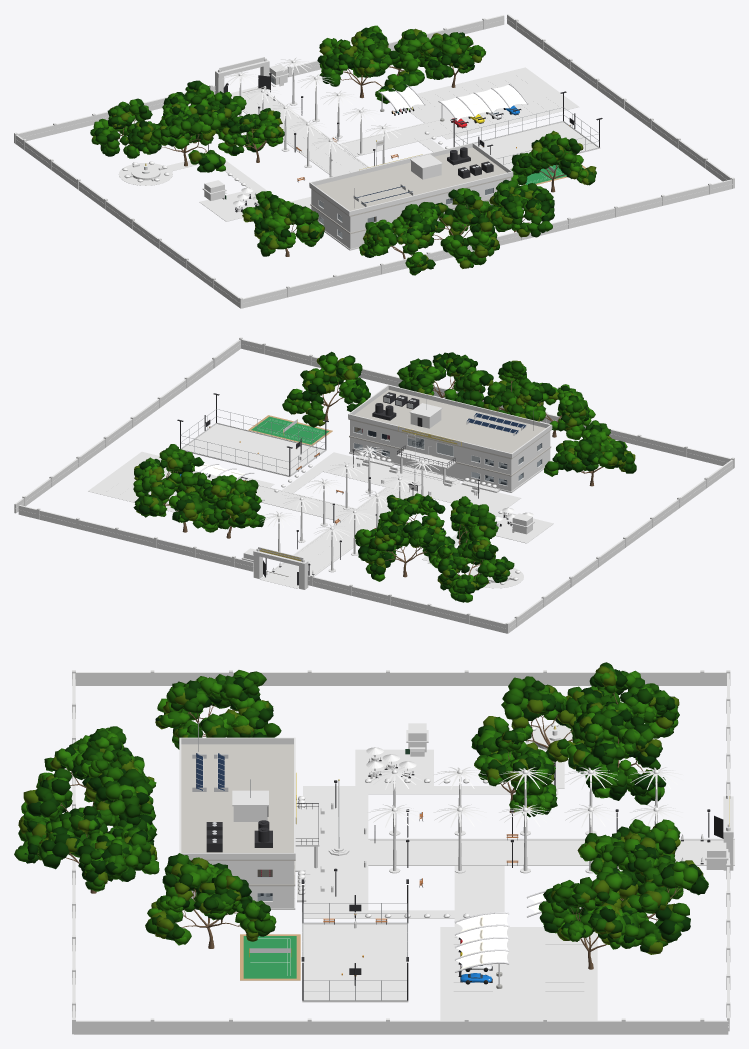
The model's file is campus_full.glb.
3 views of the same model, one above another, from view 1: azimuth 30°, elevation 25°; view 2: azimuth 150°, elevation 25°; view 3: azimuth 270°, elevation 25° (orthographic). The views are drawn at different scales.
Visible parts, largest first — view 1: Parking_Area, Roof_Main, Boundary_Wall_South, Oak_Tree_9_Leaves, Oak_Tree_11_Leaves, Oak_Tree_10_Leaves, Oak_Tree_8_Leaves, Oak_Tree_5_Leaves, Road_Main, Oak_Tree_2_Leaves, Oak_Tree_12_Leaves, Oak_Tree_1_Leaves (+19 smaller); view 2: Roof_Main, Oak_Tree_12_Leaves, Plaza_Front, Court_Pad_Apron, Oak_Tree_2_Leaves, Road_Main, Oak_Tree_3_Leaves, Oak_Tree_11_Leaves, Oak_Tree_8_Leaves, Oak_Tree_6_Leaves, Oak_Tree_5_Leaves, Boundary_Wall_South (+22 smaller); view 3: Parking_Area, Roof_Main, Boundary_Wall_East, Plaza_Front, Boundary_Wall_West, Oak_Tree_3_Leaves, Oak_Tree_10_Leaves, Oak_Tree_12_Leaves, Oak_Tree_11_Leaves, Court_Pad_Apron, Road_Main, Oak_Tree_6_Leaves (+23 smaller).
Boxes of the visible parts, bbox=[...] form: Parking_Area: bbox=[404, 67, 578, 139]; Roof_Main: bbox=[309, 147, 512, 216]; Boundary_Wall_South: bbox=[242, 179, 732, 308]; Oak_Tree_9_Leaves: bbox=[418, 188, 499, 268]; Oak_Tree_11_Leaves: bbox=[242, 191, 324, 256]; Oak_Tree_10_Leaves: bbox=[483, 179, 554, 237]; Oak_Tree_8_Leaves: bbox=[359, 204, 438, 275]; Oak_Tree_5_Leaves: bbox=[317, 36, 407, 103]; Road_Main: bbox=[230, 86, 367, 175]; Oak_Tree_2_Leaves: bbox=[90, 98, 167, 158]; Oak_Tree_12_Leaves: bbox=[511, 130, 596, 185]; Oak_Tree_1_Leaves: bbox=[145, 113, 225, 172]; Roof_Main: bbox=[348, 389, 551, 459]; Oak_Tree_12_Leaves: bbox=[282, 351, 370, 427]; Plaza_Front: bbox=[314, 452, 520, 511]; Court_Pad_Apron: bbox=[182, 424, 324, 475]; Oak_Tree_2_Leaves: bbox=[432, 539, 514, 602]; Road_Main: bbox=[261, 487, 414, 588]; Oak_Tree_3_Leaves: bbox=[354, 520, 453, 581]; Oak_Tree_11_Leaves: bbox=[544, 420, 636, 476]; Oak_Tree_8_Leaves: bbox=[503, 382, 595, 439]; Oak_Tree_6_Leaves: bbox=[133, 471, 225, 532]; Oak_Tree_5_Leaves: bbox=[197, 475, 265, 529]; Boundary_Wall_South: bbox=[241, 339, 731, 465]; Parking_Area: bbox=[440, 927, 597, 1020]; Roof_Main: bbox=[181, 744, 295, 860]; Boundary_Wall_East: bbox=[74, 1020, 728, 1034]; Plaza_Front: bbox=[303, 786, 368, 918]; Boundary_Wall_West: bbox=[76, 672, 726, 685]; Oak_Tree_3_Leaves: bbox=[567, 701, 666, 804]; Oak_Tree_10_Leaves: bbox=[14, 806, 159, 891]; Oak_Tree_12_Leaves: bbox=[145, 853, 276, 945]; Oak_Tree_11_Leaves: bbox=[155, 670, 281, 749]; Court_Pad_Apron: bbox=[303, 924, 406, 1000]; Road_Main: bbox=[368, 840, 734, 864]; Oak_Tree_6_Leaves: bbox=[581, 860, 708, 954].
Size of what is drawn, in the model's own units: 127 by 15.15 by 110.
